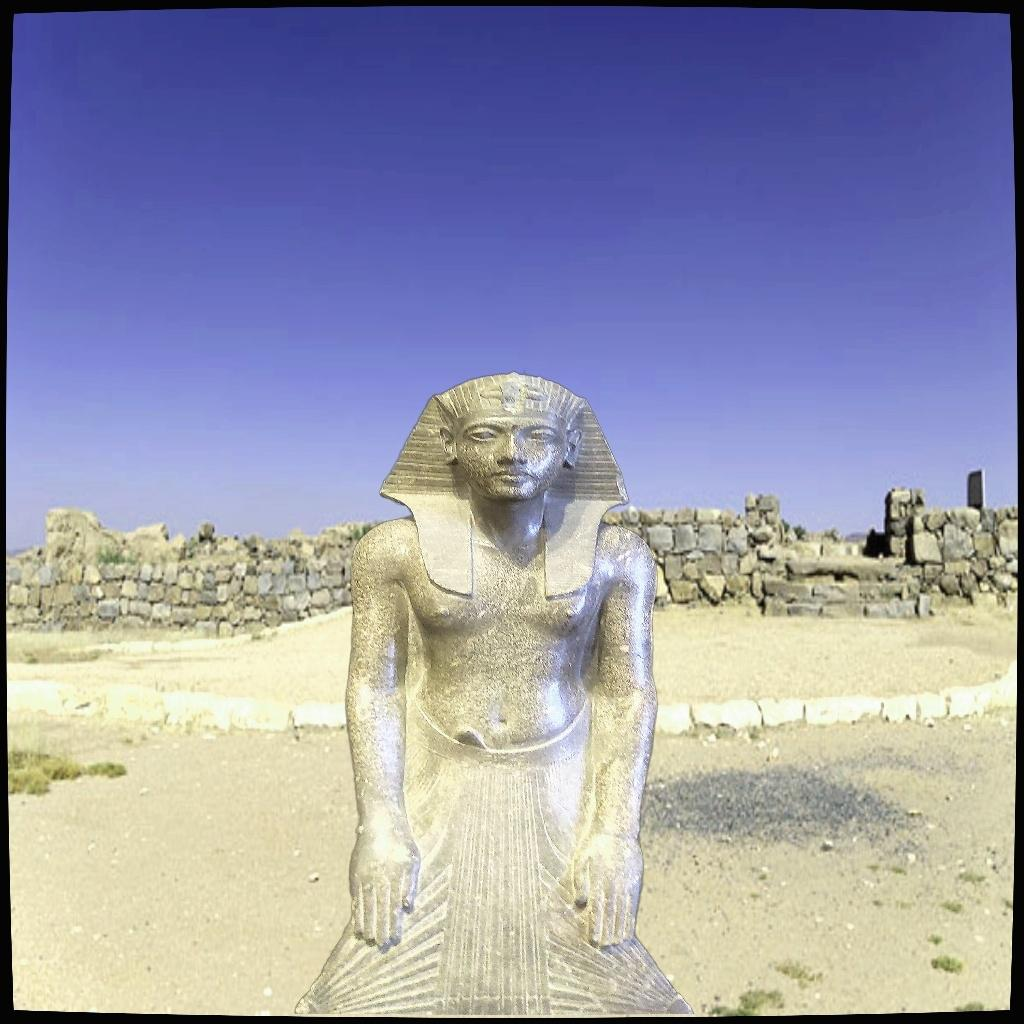Granite Statue of Tutankhamun: (289, 368, 701, 1015)
